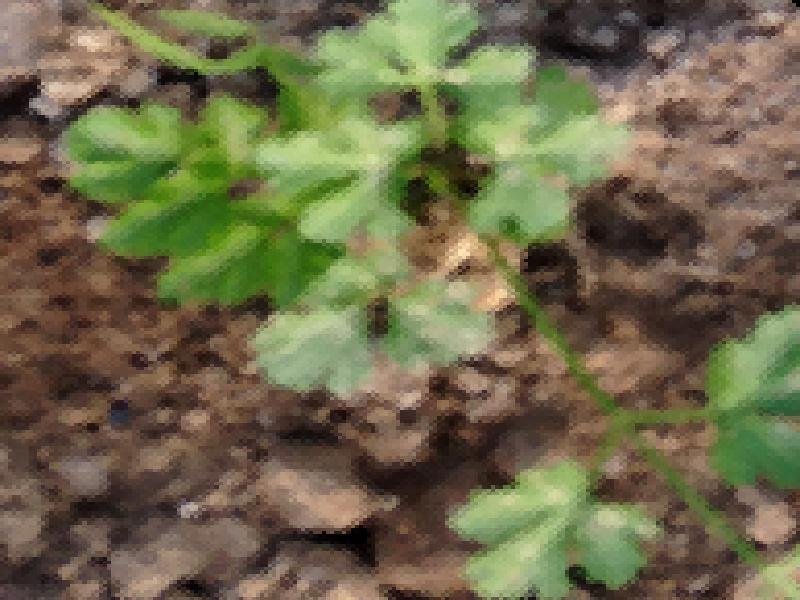radish: (103, 36, 752, 497)
